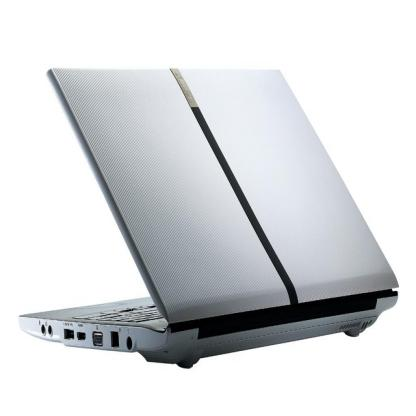board: (9, 63, 406, 363)
